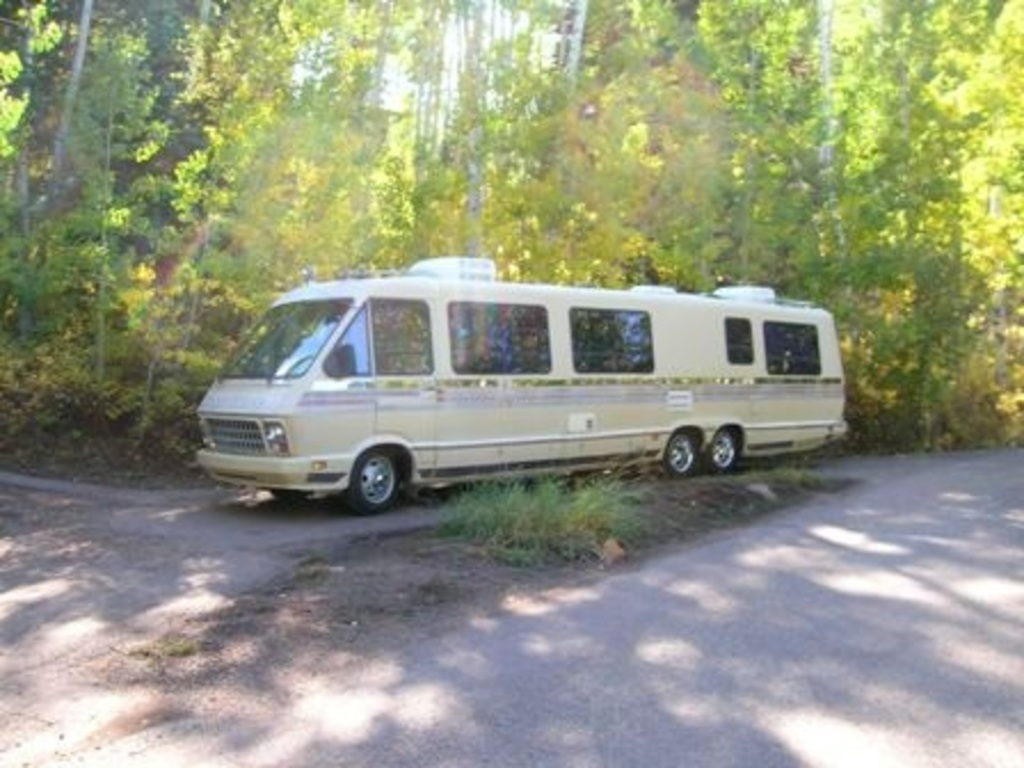Tree: (0, 0, 1023, 472)
